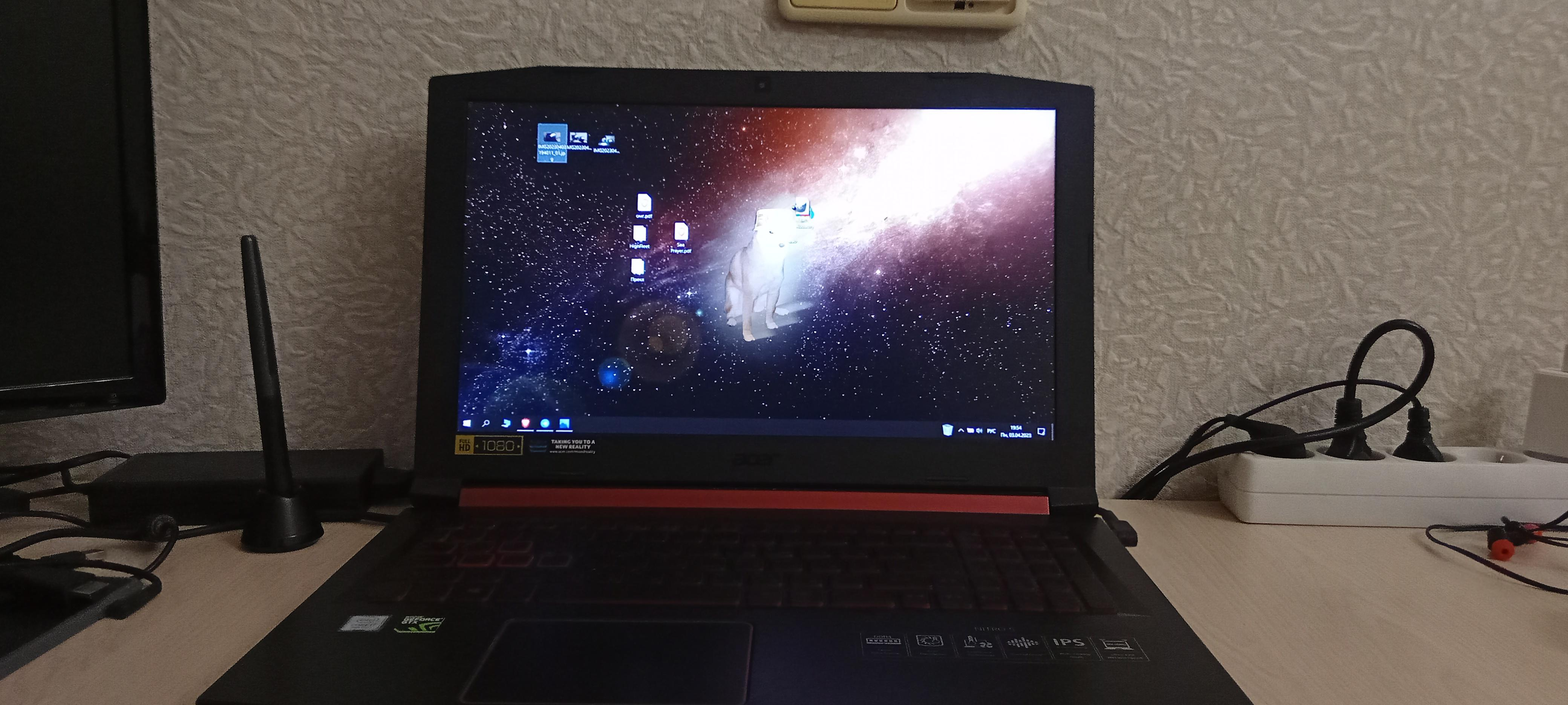monitor: (422, 60, 1125, 525)
